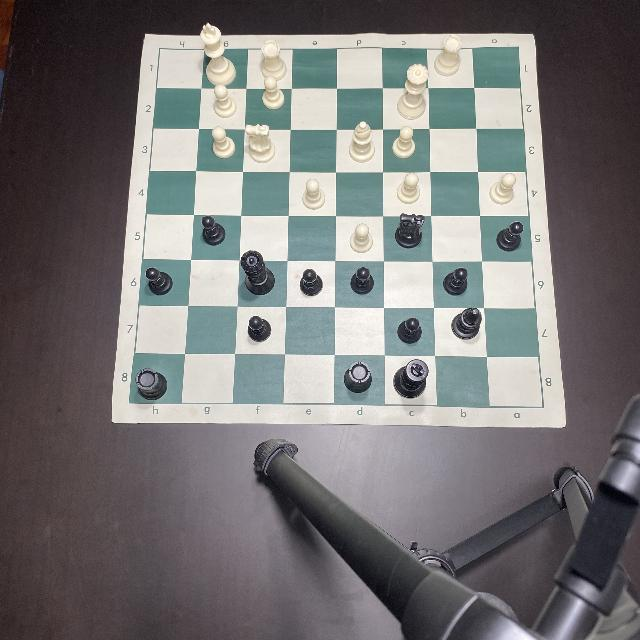black-bishop: (452, 308, 482, 340)
black-king: (393, 359, 429, 399)
black-knight: (396, 212, 426, 248)
black-pawn: (495, 222, 523, 250), (245, 315, 272, 343), (146, 267, 172, 295), (299, 268, 323, 298), (444, 266, 468, 296), (202, 215, 224, 245), (351, 266, 374, 294), (398, 318, 422, 344)
black-queen: (240, 250, 276, 296)
black-rook: (136, 370, 168, 400), (344, 362, 372, 392)
board: (111, 34, 566, 430)
white-bishop: (350, 122, 374, 162)
white-king: (200, 22, 237, 86)
white-knight: (244, 124, 276, 162)
white-pawn: (258, 77, 286, 109), (212, 84, 238, 118), (300, 178, 326, 210), (490, 173, 516, 204), (392, 126, 416, 158), (212, 125, 235, 158), (398, 172, 420, 204), (350, 220, 372, 250)
white-queen: (398, 64, 427, 118)
white-rook: (434, 34, 462, 76), (262, 40, 286, 80)
